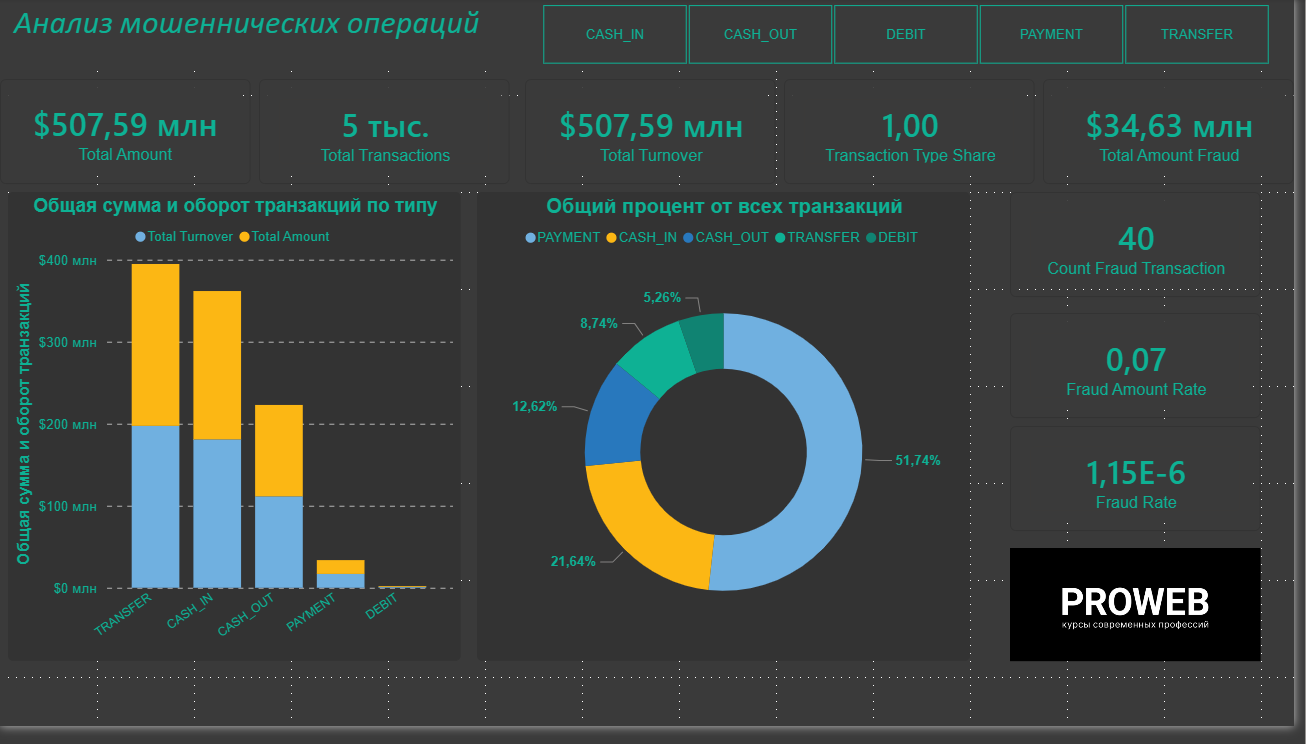

Layout of this report page (visuals, bound fields, positions):
{"tool":"powerbi","page":{"name":"Страница 1","canvas":[1280,720],"ordinal":0},"visuals":[{"type":"textbox","box":[0,0,488,72],"z":0},{"type":"cardVisual","fields":{"Data":["BaseDAX.Total Amount"]},"box":[0,80,248,104],"z":1000},{"type":"cardVisual","fields":{"Data":["BaseDAX.Total Transactions"]},"box":[256,80,248,104],"z":2000},{"type":"cardVisual","fields":{"Data":["BaseDAX.Total Turnover"]},"box":[520,80,248,104],"z":3000},{"type":"cardVisual","fields":{"Data":["BaseDAX.Transaction Type Share"]},"box":[776,80,248,104],"z":4000},{"type":"cardVisual","fields":{"Data":["Fraud Analysis.Total Amount Fraud"]},"box":[1032,80,248,104],"z":5000},{"type":"columnChart","title":"Общая сумма и оборот транзакций по типу","fields":{"Category":["Frauds.type"],"Y":["BaseDAX.Total Turnover","BaseDAX.Total Amount"]},"box":[8,192,448,464],"z":6000},{"type":"donutChart","title":"Общий процент от всех транзакций","fields":{"Category":["Frauds.type"],"Y":["BaseDAX.Total Transactions"]},"box":[472,192,488,464],"z":7000},{"type":"cardVisual","fields":{"Data":["Fraud Analysis.Count Fraud Transaction"]},"box":[1000,192,248,104],"z":8000},{"type":"cardVisual","fields":{"Data":["Fraud Analysis.Fraud Amount Rate"]},"box":[1000,312,248,104],"z":9000},{"type":"cardVisual","fields":{"Data":["Fraud Analysis.Fraud Rate"]},"box":[1000,424,248,104],"z":10000},{"type":"image","box":[1000,544,248,112],"z":11000},{"type":"slicer","fields":{"Values":["Frauds.type"]},"box":[512,0,768,72],"z":12000}]}

Visuals, with their boxes in screenshot pixels (x1, y1, x2, y2), scaled from the page's 1280x720 canvas onto the 1306x744 screenshot:
textbox: box=[0, 0, 498, 74]
cardVisual - BaseDAX.Total Amount: box=[0, 83, 253, 190]
cardVisual - BaseDAX.Total Transactions: box=[261, 83, 514, 190]
cardVisual - BaseDAX.Total Turnover: box=[531, 83, 784, 190]
cardVisual - BaseDAX.Transaction Type Share: box=[792, 83, 1045, 190]
cardVisual - Fraud Analysis.Total Amount Fraud: box=[1053, 83, 1305, 190]
"Общая сумма и оборот транзакций по типу" columnChart: box=[8, 198, 465, 678]
"Общий процент от всех транзакций" donutChart: box=[482, 198, 980, 678]
cardVisual - Fraud Analysis.Count Fraud Transaction: box=[1020, 198, 1273, 306]
cardVisual - Fraud Analysis.Fraud Amount Rate: box=[1020, 322, 1273, 430]
cardVisual - Fraud Analysis.Fraud Rate: box=[1020, 438, 1273, 546]
image: box=[1020, 562, 1273, 678]
slicer - Frauds.type: box=[522, 0, 1305, 74]
